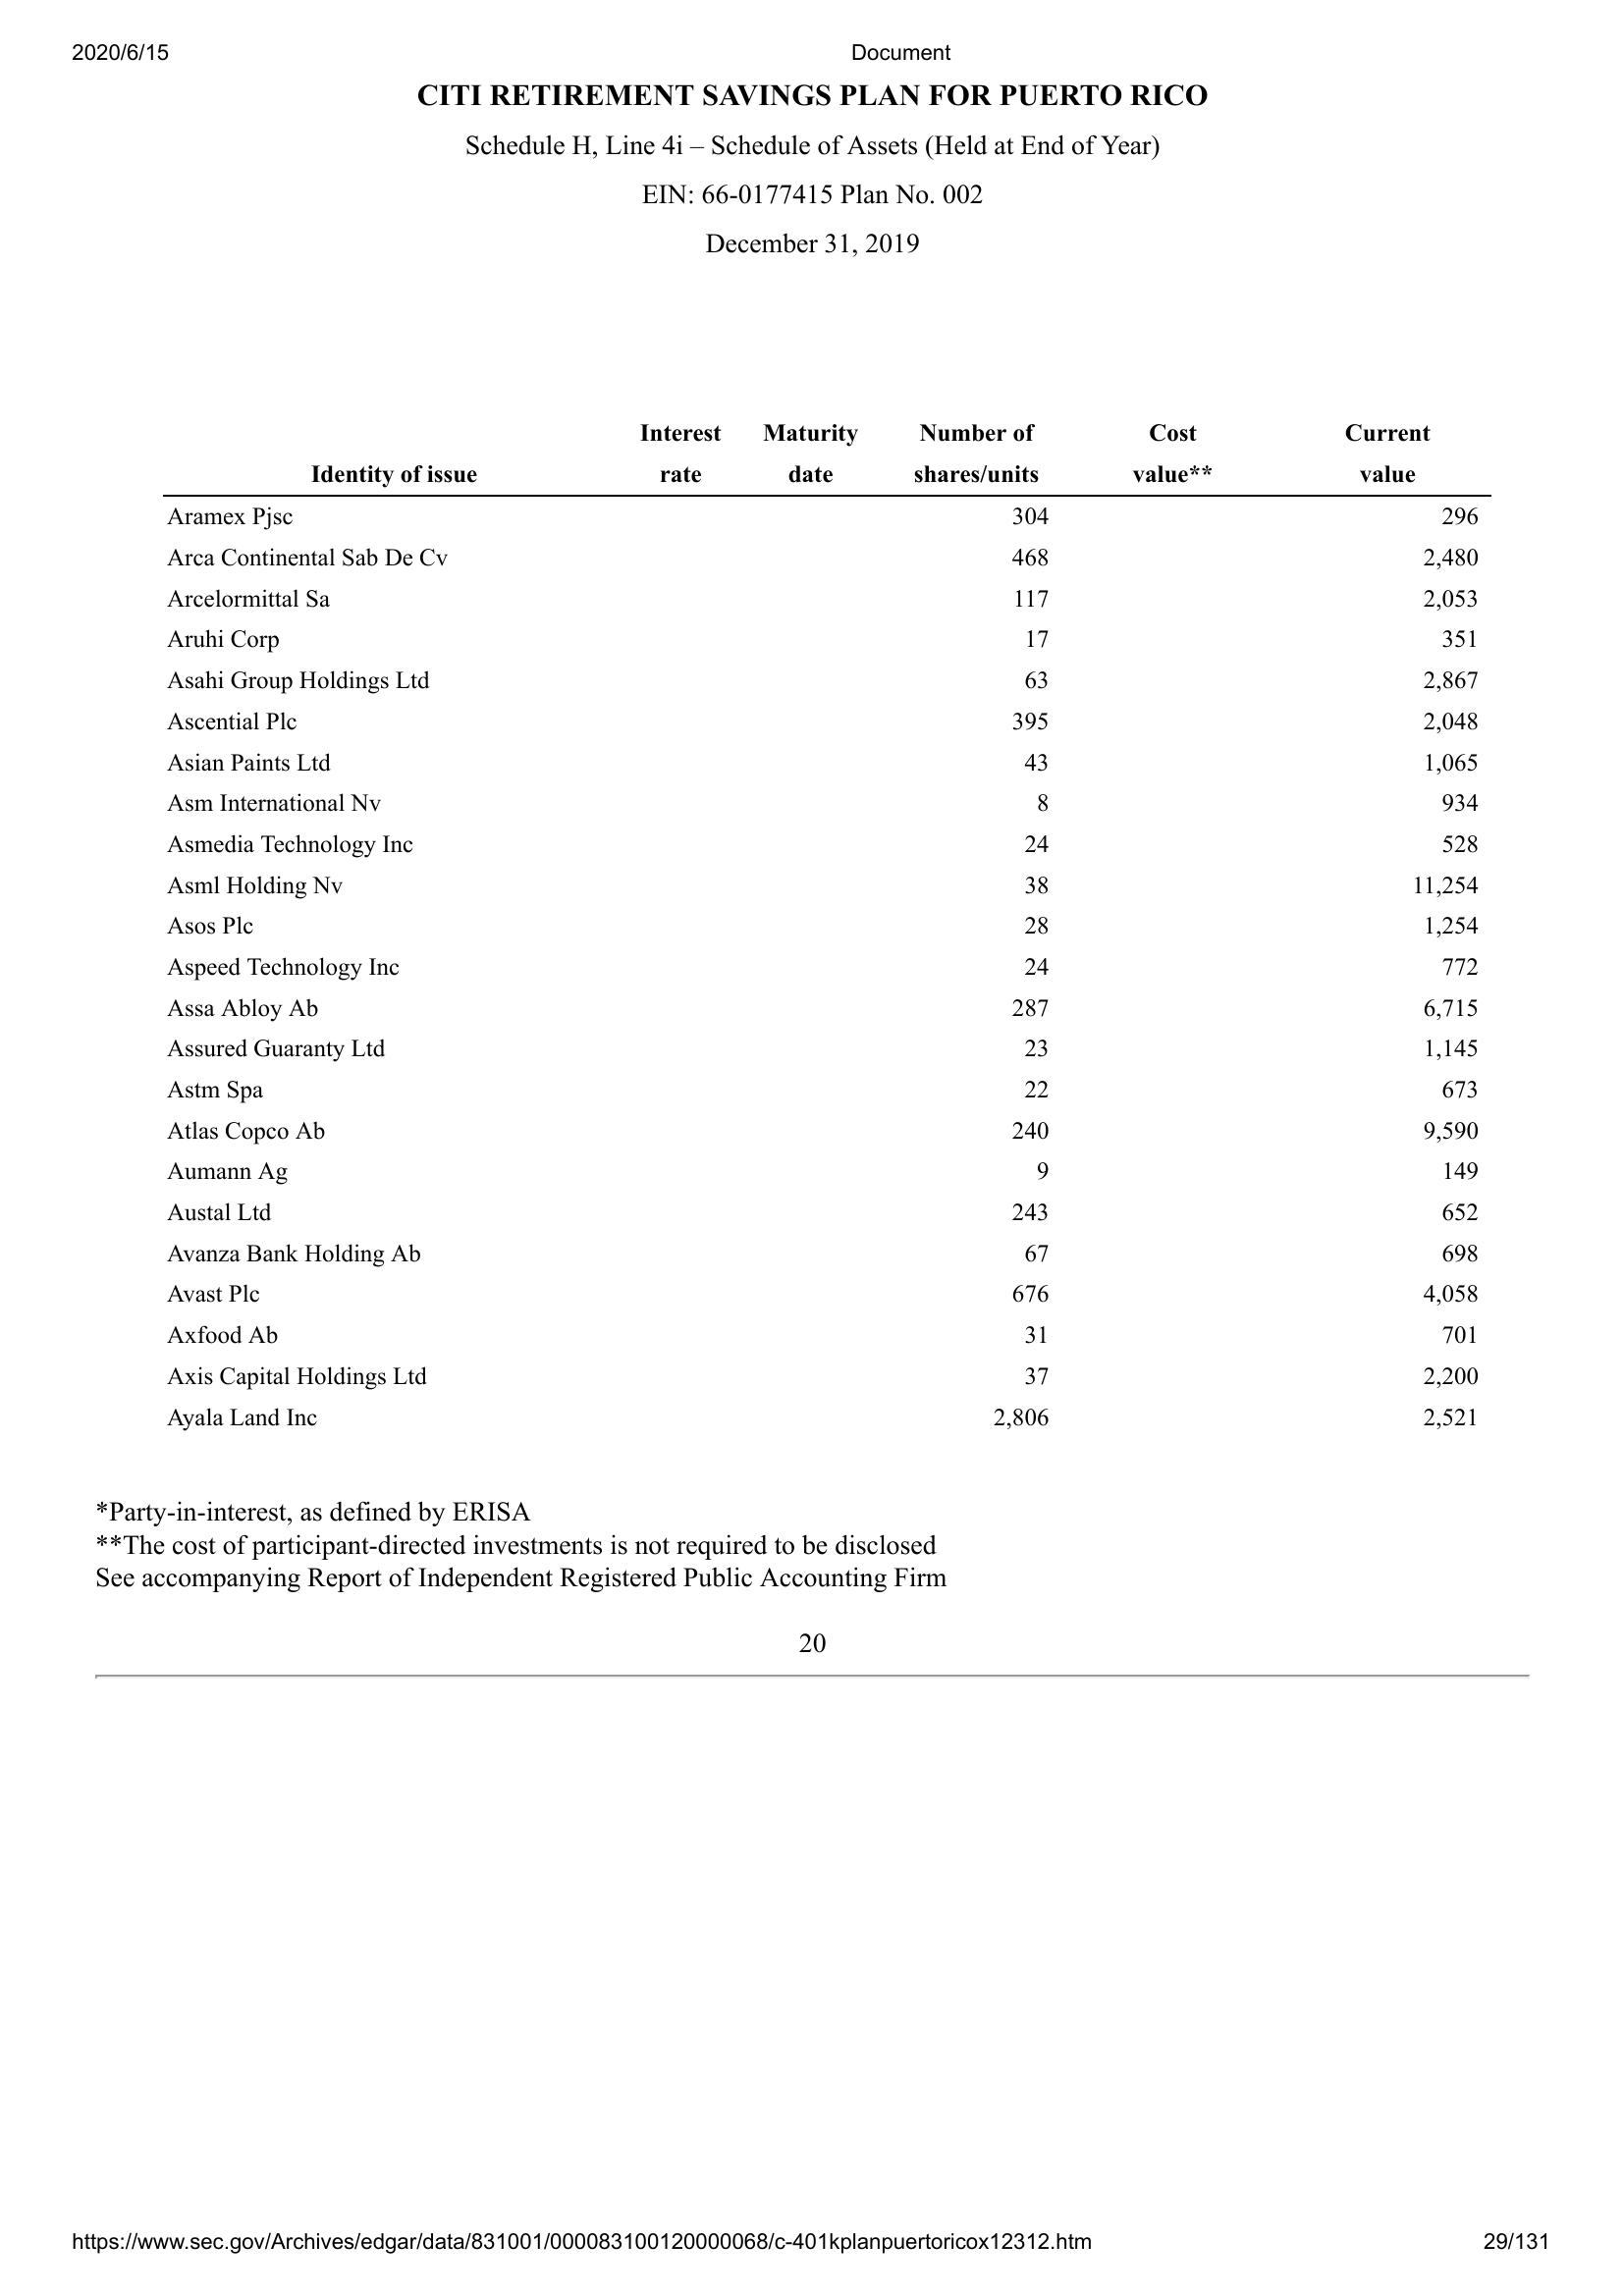table: (155, 413, 1490, 1438)
